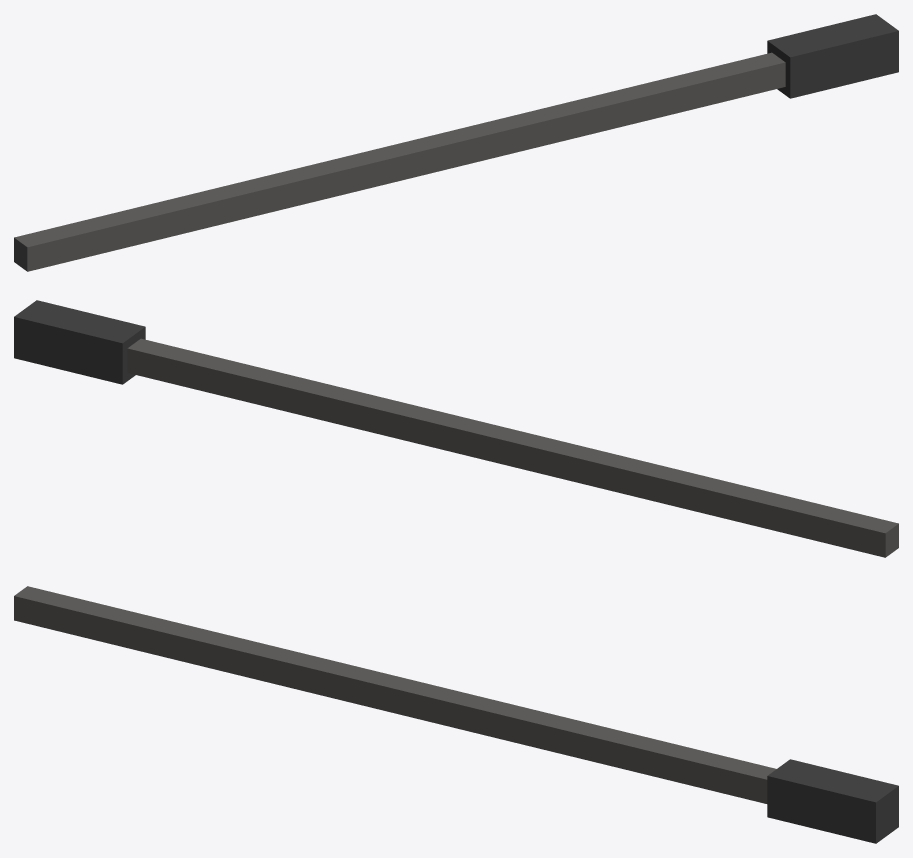
The model's file is Cable_A_1_2.fbx.
3 views of the same model, one above another, from view 1: azimuth 30°, elevation 25°; view 2: azimuth 150°, elevation 25°; view 3: azimuth 330°, elevation 25° (orthographic).
Visible parts, largest first — view 1: Cable_A_1_2; view 2: Cable_A_1_2; view 3: Cable_A_1_2.
Part boxes in pixels (bbox=[...]): Cable_A_1_2: bbox=[14, 14, 898, 271]; Cable_A_1_2: bbox=[14, 300, 898, 557]; Cable_A_1_2: bbox=[14, 586, 898, 843].
Bounding box in the file's own units: 215 × 9.83 × 9.83.
